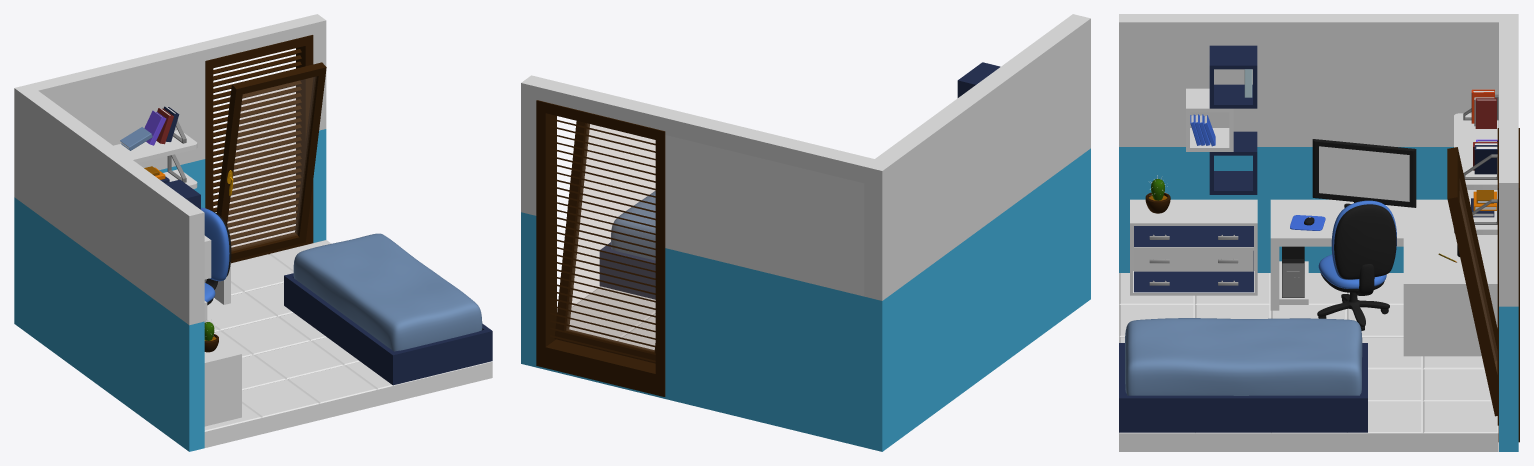
File: isometric-bedroom.fbx
The picture shows the model from 3 angles, left to right: view 1: azimuth 30°, elevation 25°; view 2: azimuth 150°, elevation 25°; view 3: azimuth 270°, elevation 25°; orthographic projection. The views are drawn at different scales.
Parts seen in each view (by area): view 1: Cube.002_Material_0, Cube.002_Material.002_0, Cube_Material_0, Cube.020_Material.006_0, Cube.022_Material.007_0, Cube.021_Material.003_0, Cube.010_Material.001_0, Cube.003_Material.003_0, Cube.019_Material.003_0, Cube.014_Material_0, Cube.052_Material.021_0, Cube.028_Material_0 (+1 smaller); view 2: Cube.002_Material.002_0, Cube.002_Material_0, Cube.022_Material.007_0, Cube.019_Material.003_0, Cube.021_Material.003_0, Cube.003_Material.003_0, Cube_Material_0, Cube.010_Material.001_0, Cube.020_Material.006_0, Cube.001_Material.001_0; view 3: Cube.002_Material_0, Cube_Material_0, Cube.020_Material.006_0, Cube.002_Material.002_0, Cube.024_Material_0, Cube.010_Material.001_0, Cube.014_Material_0, Cube.052_Material.005_0, Cube.003_Material.003_0, Cube.014_Material.001_0, Cube.001_Material.001_0, Cube.023_Material.008_0 (+15 smaller).
Part boxes in pixels (x1=…): Cube.002_Material_0: x1=14, y1=14, x2=326, y2=325; Cube.002_Material.002_0: x1=14, y1=129, x2=326, y2=451; Cube_Material_0: x1=204, y1=240, x2=492, y2=447; Cube.020_Material.006_0: x1=293, y1=233, x2=482, y2=351; Cube.022_Material.007_0: x1=227, y1=77, x2=315, y2=250; Cube.021_Material.003_0: x1=213, y1=49, x2=301, y2=247; Cube.010_Material.001_0: x1=284, y1=273, x2=492, y2=385; Cube.003_Material.003_0: x1=216, y1=62, x2=326, y2=260; Cube.019_Material.003_0: x1=205, y1=35, x2=313, y2=263; Cube.014_Material_0: x1=204, y1=337, x2=241, y2=426; Cube.052_Material.021_0: x1=201, y1=207, x2=229, y2=302; Cube.028_Material_0: x1=113, y1=130, x2=197, y2=163; Cube.002_Material.002_0: x1=521, y1=148, x2=1090, y2=451; Cube.002_Material_0: x1=521, y1=14, x2=1090, y2=300; Cube.022_Material.007_0: x1=566, y1=124, x2=655, y2=351; Cube.019_Material.003_0: x1=536, y1=100, x2=665, y2=396; Cube.021_Material.003_0: x1=550, y1=118, x2=655, y2=362; Cube.003_Material.003_0: x1=554, y1=121, x2=655, y2=363; Cube_Material_0: x1=569, y1=286, x2=655, y2=349; Cube.010_Material.001_0: x1=599, y1=242, x2=655, y2=299; Cube.020_Material.006_0: x1=611, y1=191, x2=655, y2=260; Cube.001_Material.001_0: x1=957, y1=62, x2=1000, y2=97; Cube.002_Material_0: x1=1119, y1=14, x2=1518, y2=306; Cube_Material_0: x1=1119, y1=273, x2=1498, y2=451; Cube.020_Material.006_0: x1=1125, y1=318, x2=1362, y2=395; Cube.002_Material.002_0: x1=1119, y1=147, x2=1518, y2=451; Cube.024_Material_0: x1=1270, y1=199, x2=1497, y2=356; Cube.010_Material.001_0: x1=1119, y1=343, x2=1367, y2=432; Cube.014_Material_0: x1=1130, y1=199, x2=1257, y2=295; Cube.052_Material.005_0: x1=1317, y1=204, x2=1396, y2=326; Cube.003_Material.003_0: x1=1447, y1=147, x2=1497, y2=416; Cube.014_Material.001_0: x1=1134, y1=226, x2=1253, y2=292; Cube.001_Material.001_0: x1=1209, y1=45, x2=1257, y2=194; Cube.023_Material.008_0: x1=1319, y1=146, x2=1409, y2=201.
Bounding box in the file's own units: 20000 × 14856 × 20059.
